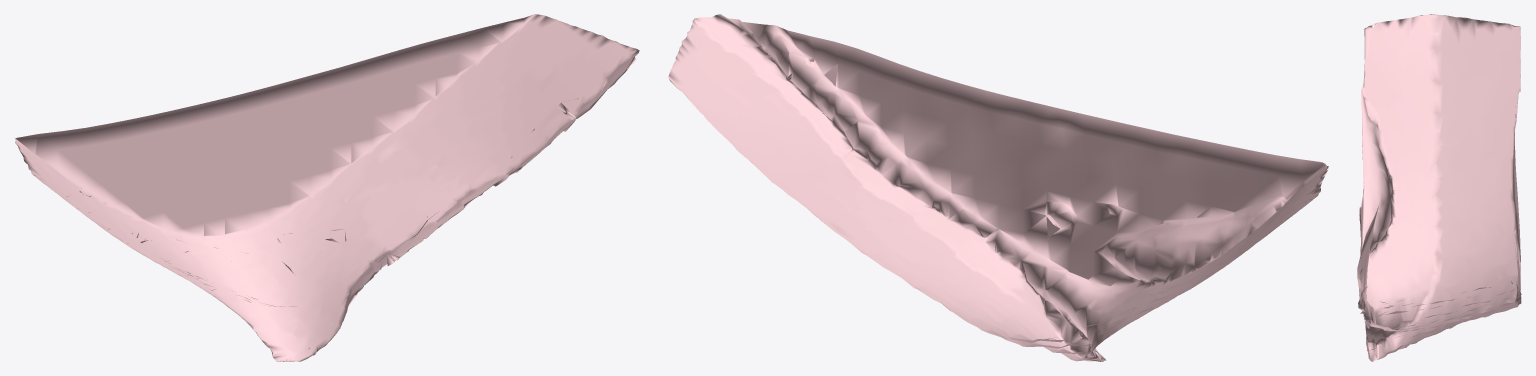
Rendered from Jxa.gltf.
3 renders of one model, left to right at view 1: azimuth 30°, elevation 25°; view 2: azimuth 150°, elevation 25°; view 3: azimuth 270°, elevation 25°, orthographic. The views are drawn at different scales.
Parts seen in each view (by area): view 1: Switch_Switch_osgPicked_gmeGeoEntityGeode_Geometry_0; view 2: Switch_Switch_osgPicked_gmeGeoEntityGeode_Geometry_0; view 3: Switch_Switch_osgPicked_gmeGeoEntityGeode_Geometry_0.
Boxes of the visible parts, left/top/right/bottom form: Switch_Switch_osgPicked_gmeGeoEntityGeode_Geometry_0: left=14, top=14, right=639, bottom=361; Switch_Switch_osgPicked_gmeGeoEntityGeode_Geometry_0: left=668, top=14, right=1328, bottom=361; Switch_Switch_osgPicked_gmeGeoEntityGeode_Geometry_0: left=1357, top=14, right=1521, bottom=361.
Size of what is drawn, in the model's own units: 13834 by 5096 by 3326.
